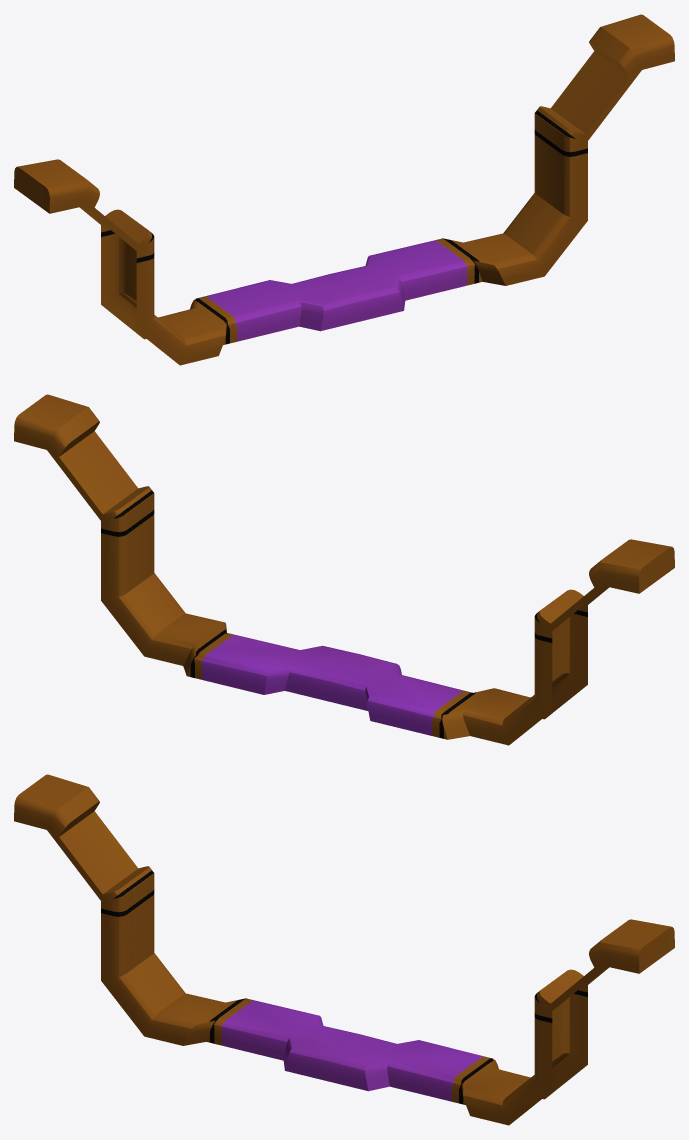
The model's file is Bg_Interior_part_001.fbx.
3 renders of one model, top to bottom at view 1: azimuth 30°, elevation 25°; view 2: azimuth 150°, elevation 25°; view 3: azimuth 330°, elevation 25°, orthographic.
Parts seen in each view (by area): view 1: Cube.029; view 2: Cube.029; view 3: Cube.029.
Boxes of the visible parts, left/top/right/bottom form: Cube.029: left=14, top=14, right=674, bottom=365; Cube.029: left=14, top=394, right=674, bottom=745; Cube.029: left=14, top=774, right=674, bottom=1125.
Size of the model in its own units: 6653 by 2105 by 831.
